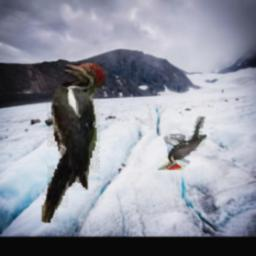Woodpecker: (42, 62, 105, 224), (158, 116, 208, 170)
